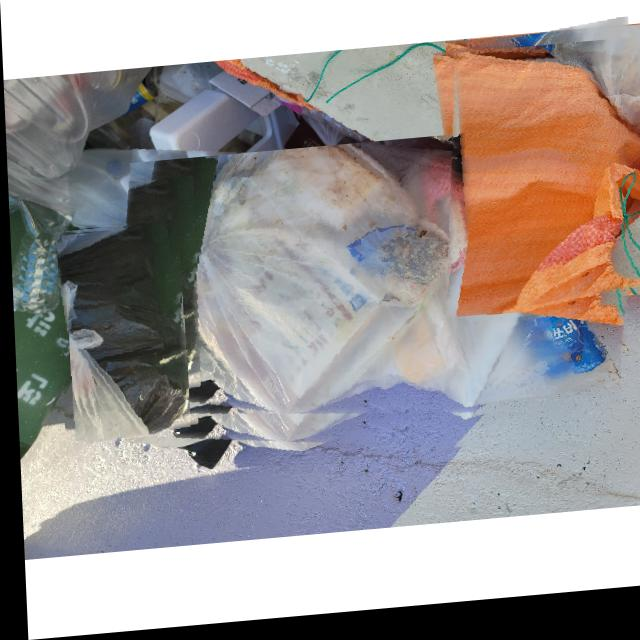other_trashbag: (112, 152, 617, 423), (449, 62, 640, 324), (56, 225, 184, 436)
